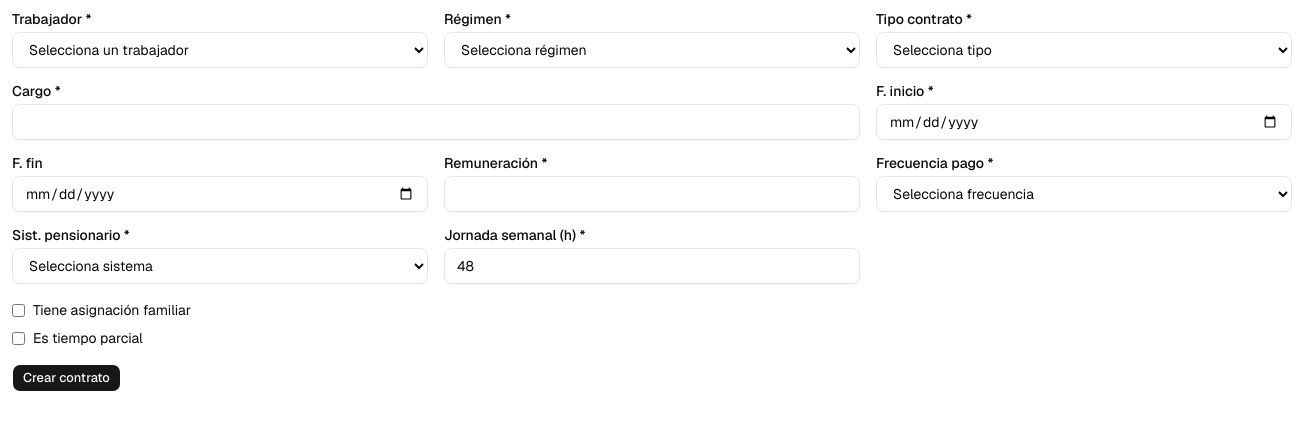
Test: ContratoForm — crear modo › CF7 regimenLaboral=AGRARIO muestra recibeBETA checkbox
Select "Agrario" in the dropdown labelled "Régimen *" at coordinates (652, 50), box [444,32,860,68]
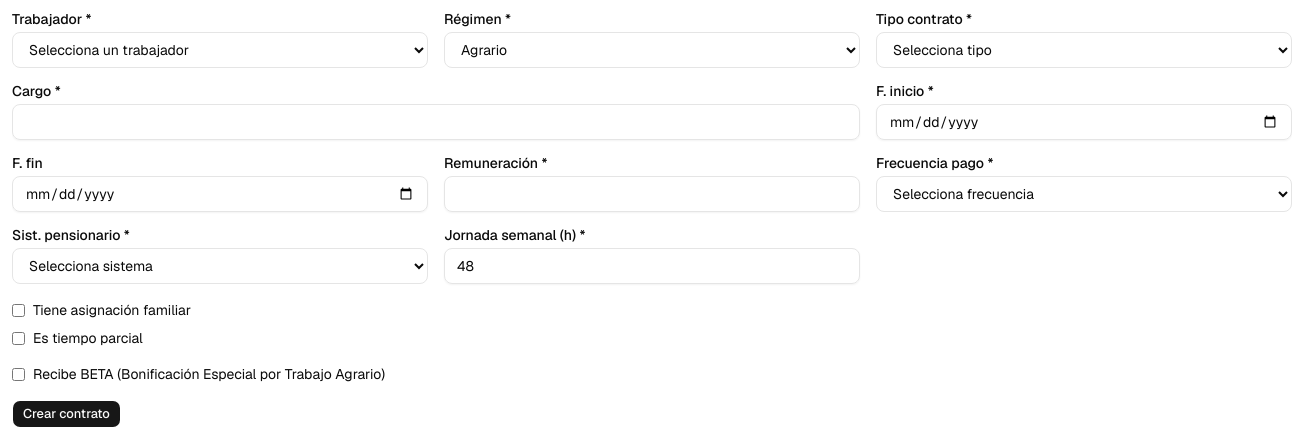
Expected: the text "Recibe BETA (Bonificación Especial por Trabajo Agrario)" is shown, [12,365,385,383]
